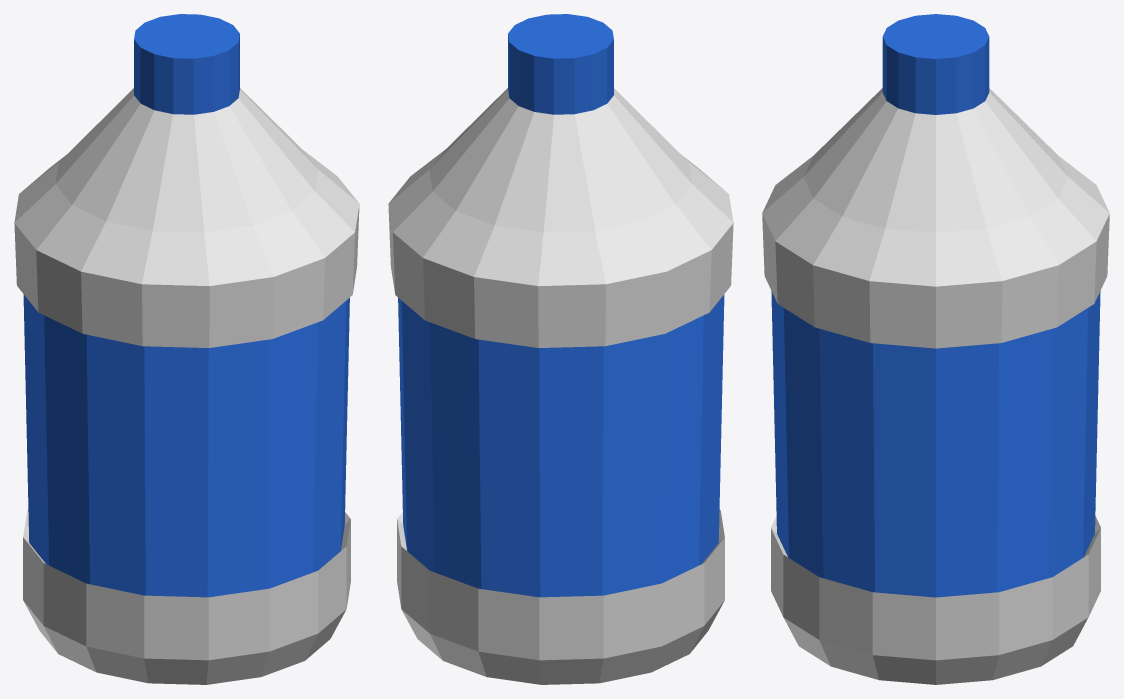
Rendered from blue_bottle.glb.
3 views of the same model, side by side, from view 1: azimuth 30°, elevation 25°; view 2: azimuth 150°, elevation 25°; view 3: azimuth 270°, elevation 25° (orthographic).
Visible parts, largest first — view 1: Cylinder.016; view 2: Cylinder.016; view 3: Cylinder.016.
Part boxes in pixels (box(x1,y1,x2,y2)): Cylinder.016: box(14, 14, 359, 684); Cylinder.016: box(388, 14, 733, 684); Cylinder.016: box(762, 14, 1109, 684).
Size of the model in its own units: 3.5 by 6.51 by 3.5.
